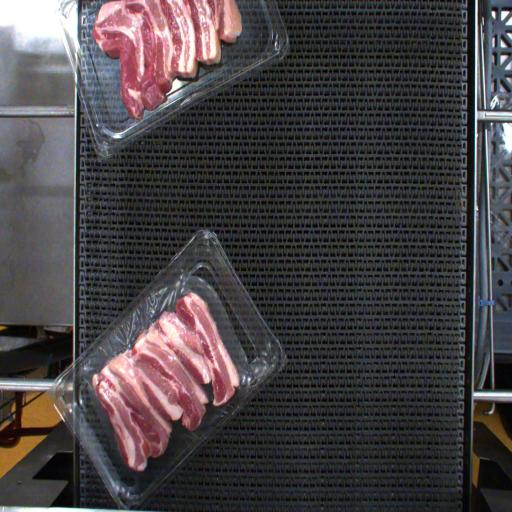unsealed: (48, 274, 276, 442)
